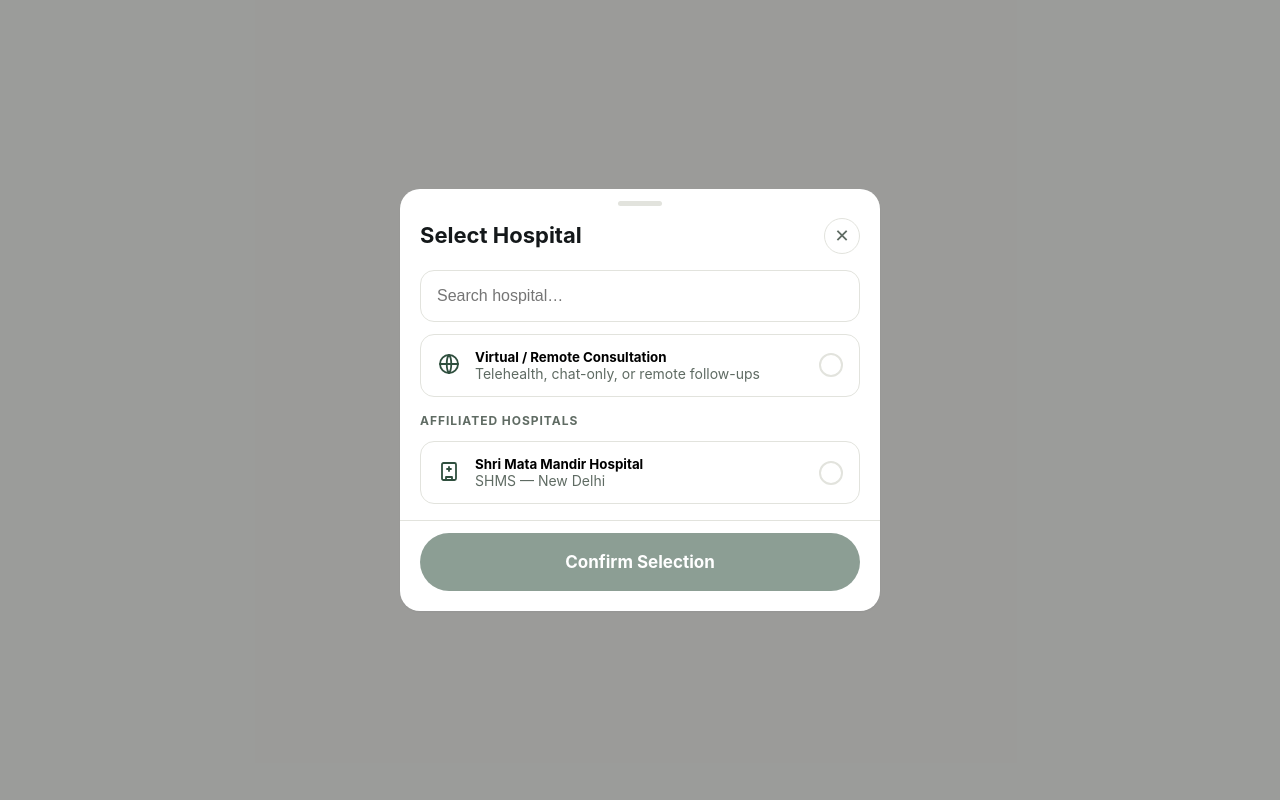
HospitalPicker › filters the list by the search query
The width and height of the screenshot is (1280, 800).
Expected: the text "Shri Mata Mandir Hospital" is shown, [475,456,643,472]
Type "shri" into the field labelled "Search hospital…" at (640, 296), box [437,271,843,321]
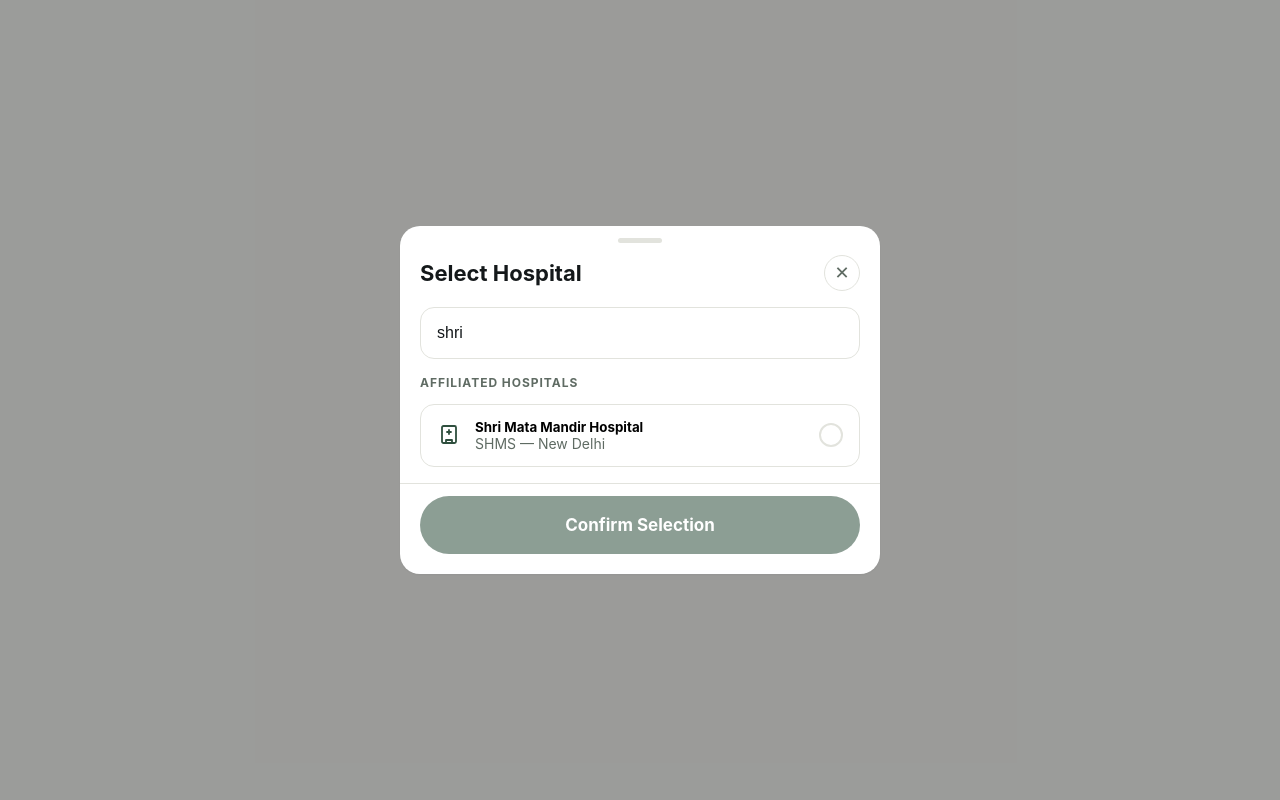
Expected: the text "Shri Mata Mandir Hospital" is shown, [475,419,643,435]
Expected: the button "Virtual / Remote Consultation" is gone
